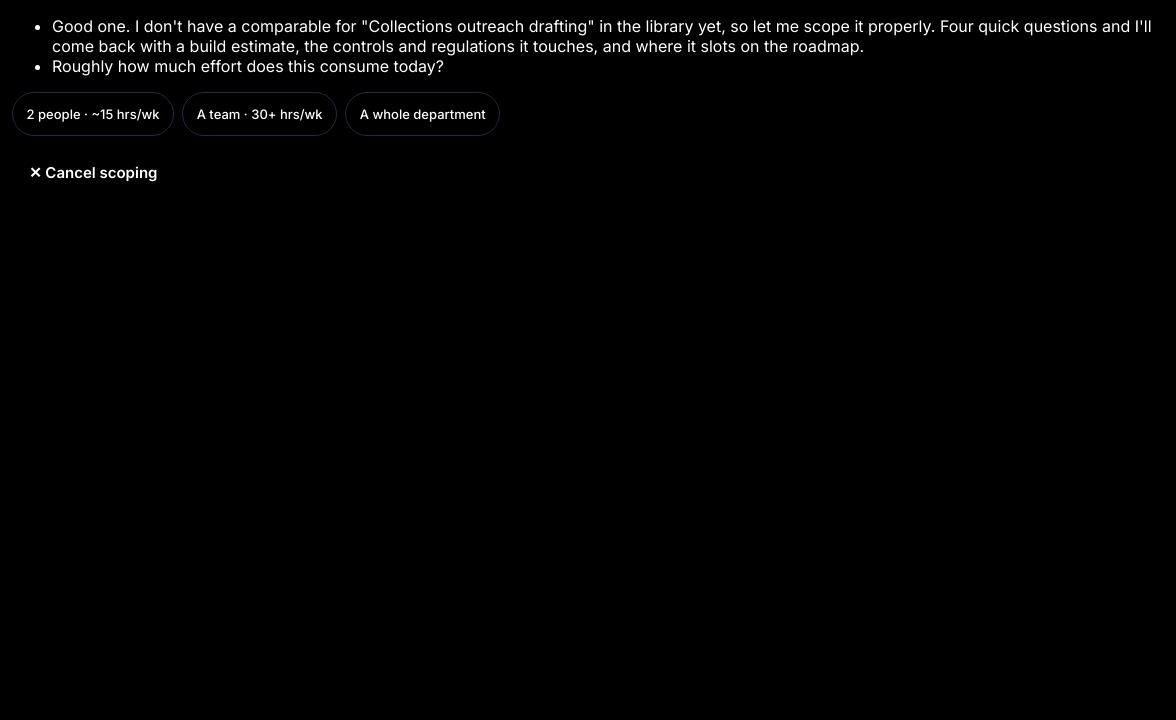
Test case: wizard full flow — 4 questions in base INTAKE order (base 4357-4368, 4434-4444) › opens with the startIntake line for the use-case name (base 4365), then asks the questions strictly in order
expect the list item "Good one. I don't have a comparable for \"Collections outreach drafting\" in the library yet" is shown: met, box [52,16,1152,56]
expect the list item "Roughly how much effort does this consume today?" is shown: met, box [52,56,444,76]
Answer Q1 → Q2 appears (base per-step advance 4434-4444), never Q3.
Click the button "2 people · ~15 hrs/wk" at x=93, y=114, box [12,92,174,136]
Wait 700 ms
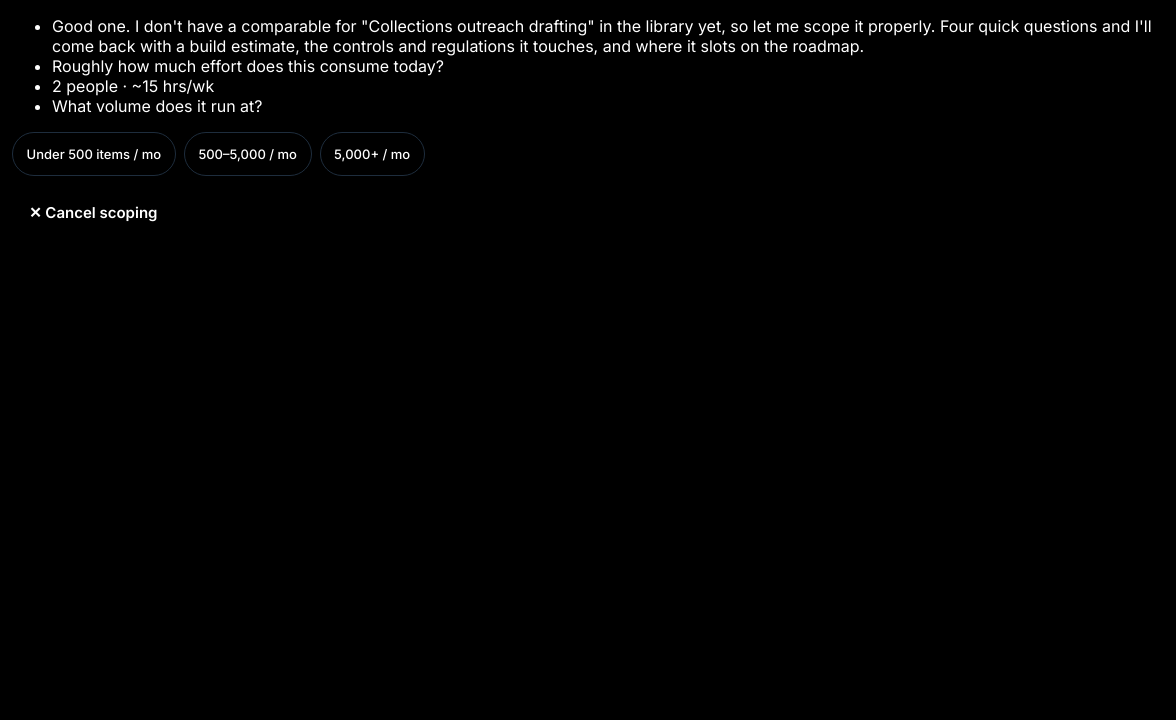
expect the list item "What volume does it run at?" is shown: met, box [52,96,262,116]
Click the button "Under 500 items / mo" at x=94, y=154, box [12,132,176,176]
Wait 700 ms
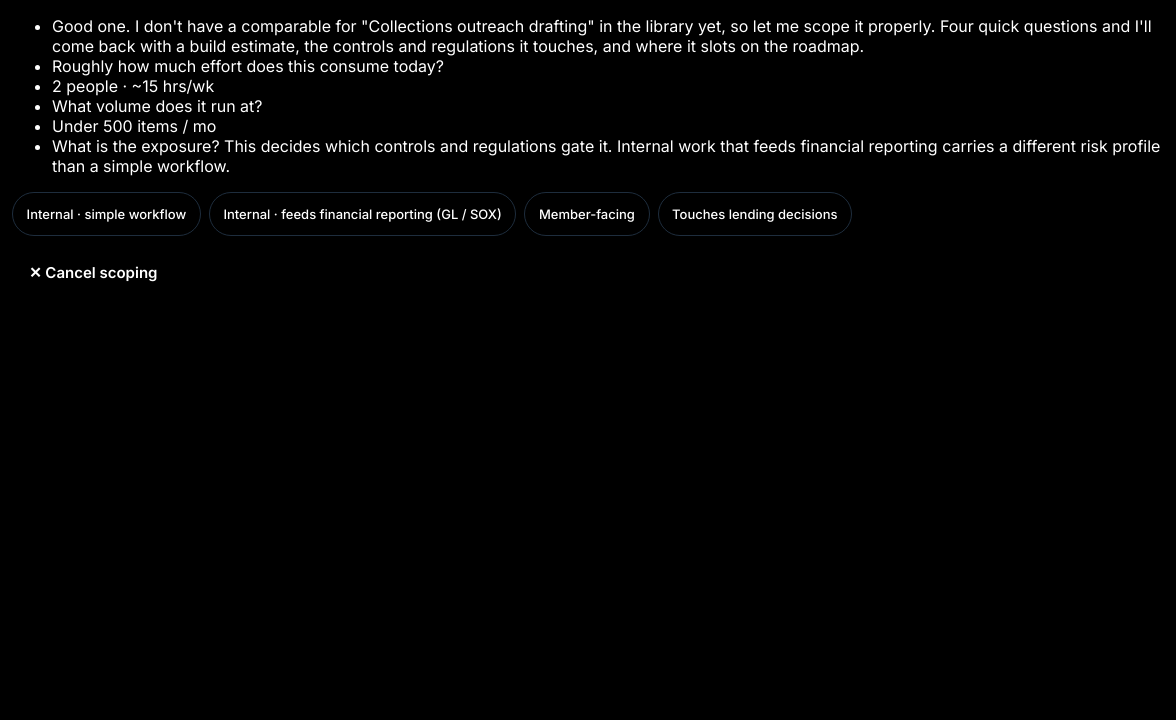
expect the text "Last one: what data does it touch?" is not shown: met
expect the list item "What is the exposure? This decides which controls and regulations gate it. Internal work that feeds financial reporting " is shown: met, box [52,136,1160,176]
Click the button "Internal · simple workflow" at x=106, y=214, box [12,192,201,236]
Wait 700 ms
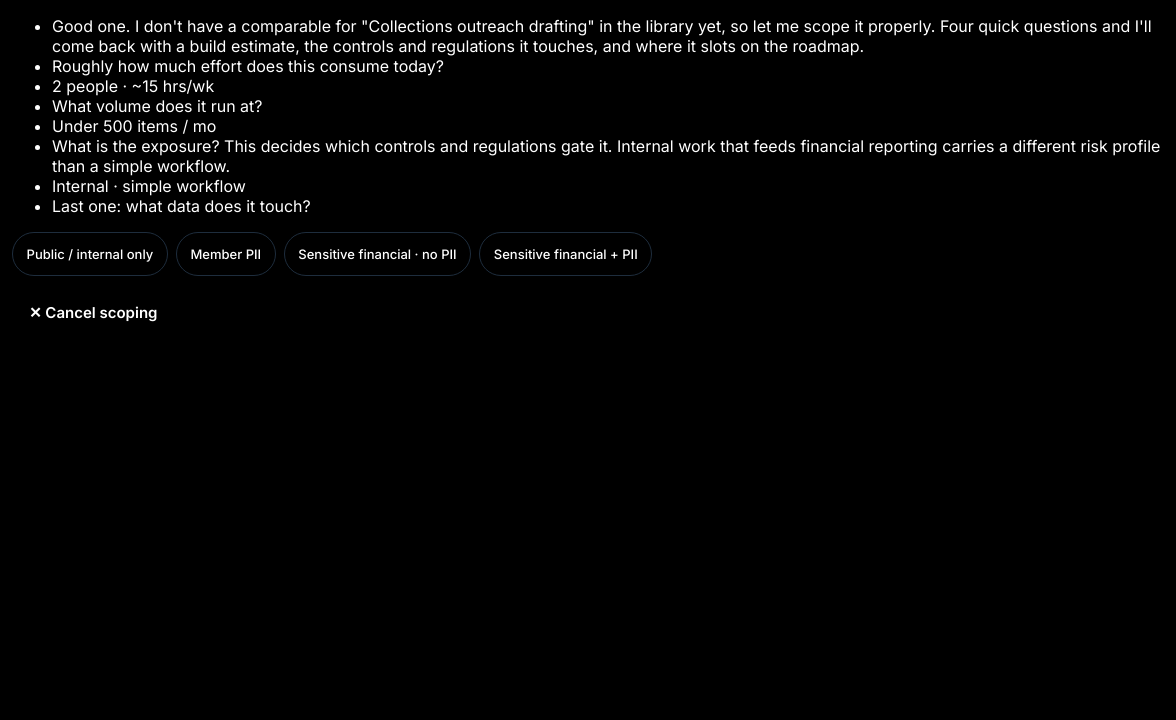
expect the list item "Last one: what data does it touch?" is shown: met, box [52,196,311,216]
Click the button "Public / internal only" at x=90, y=254, box [12,232,168,276]
Wait 700 ms
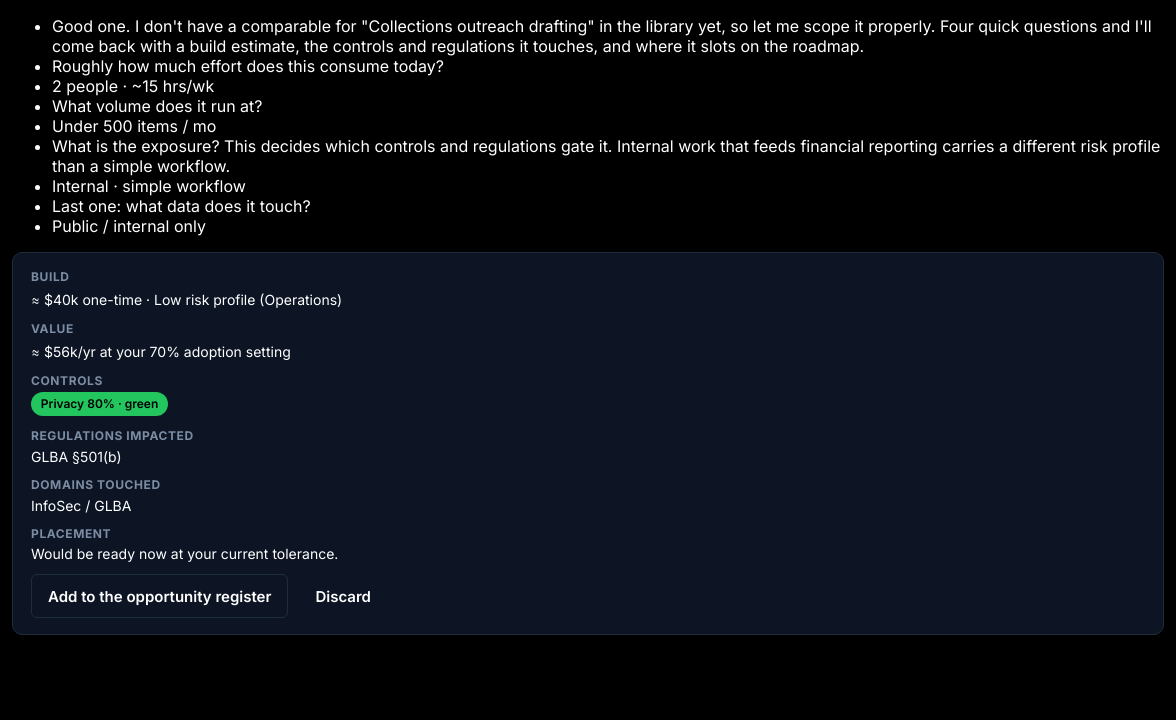
expect the element named "Scoping result" is shown: met, box [12,252,1164,635]
